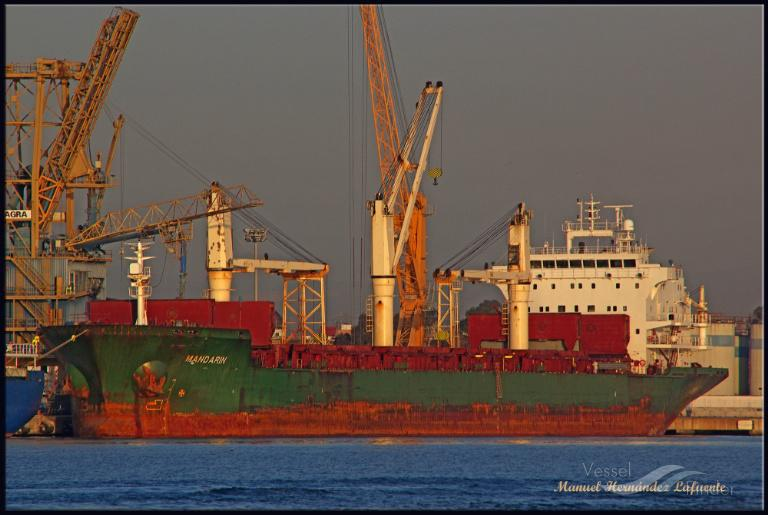OCR: (178, 350, 232, 368)
